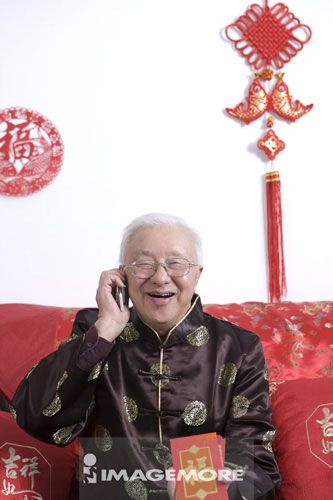phone: (116, 267, 125, 313)
talk: (95, 249, 191, 341)
